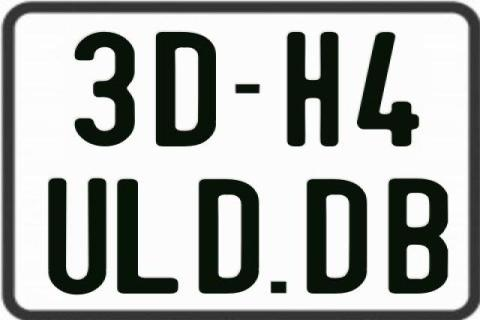0: (72, 30, 137, 148), (357, 30, 424, 144)
B: (388, 179, 450, 297)
D: (155, 32, 221, 150), (304, 177, 368, 293), (200, 177, 260, 292)
H: (286, 31, 339, 149)
L: (115, 179, 179, 299)
U: (48, 176, 106, 295)
